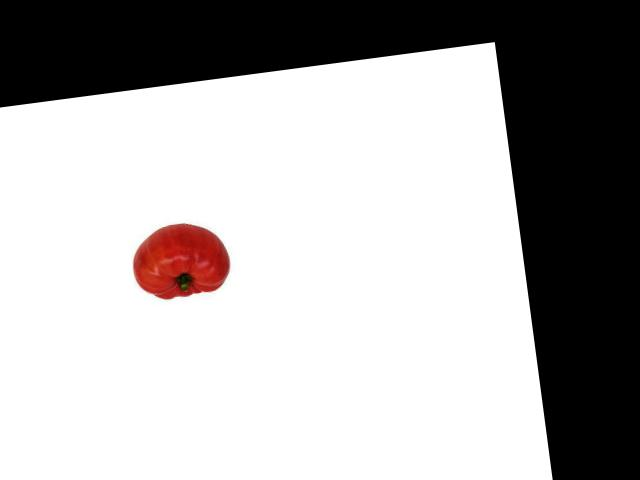tomato: (127, 218, 232, 301)
